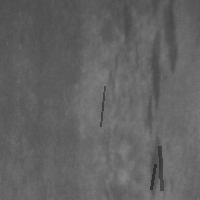inclusion: (144, 1, 182, 180), (145, 133, 171, 199), (115, 2, 139, 53), (98, 84, 106, 128), (157, 144, 163, 192), (149, 162, 157, 191)
